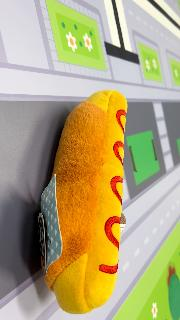hotdog: (38, 89, 128, 315)
